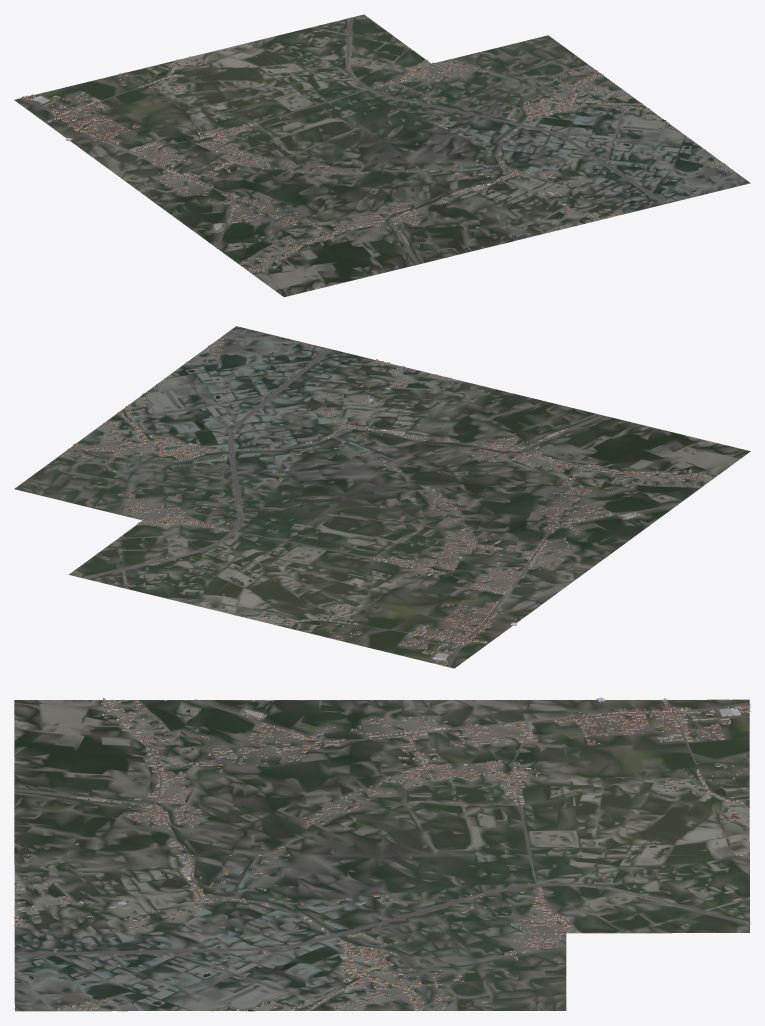
3 views of the same model, one above another, from view 1: azimuth 30°, elevation 25°; view 2: azimuth 150°, elevation 25°; view 3: azimuth 270°, elevation 25° (orthographic). The views are drawn at different scales.
Parts seen in each view (by area): view 1: ground, buildings, roads, water; view 2: ground, buildings, roads, water; view 3: ground, buildings, roads, water.
Boxes of the visible parts, <box> form: ground: <box>14,14,750,297</box>; buildings: <box>21,28,734,288</box>; roads: <box>18,17,749,266</box>; water: <box>99,28,707,257</box>; ground: <box>14,326,750,668</box>; buildings: <box>59,338,715,666</box>; roads: <box>81,327,696,667</box>; water: <box>17,337,671,645</box>; ground: <box>14,699,749,1011</box>; buildings: <box>14,697,750,1011</box>; roads: <box>14,699,750,1011</box>; water: <box>14,706,748,1010</box>.
Size of the model in its own units: 5649 by 33.45 by 5619.
